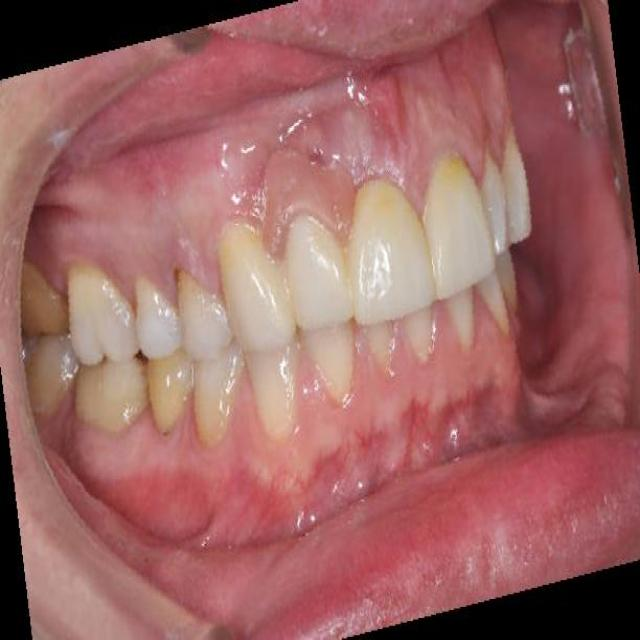swelling: (260, 168, 342, 256)
